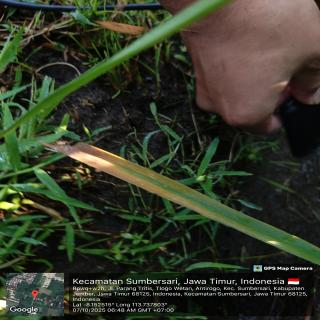Hawar-Daun: (38, 141, 228, 224)
